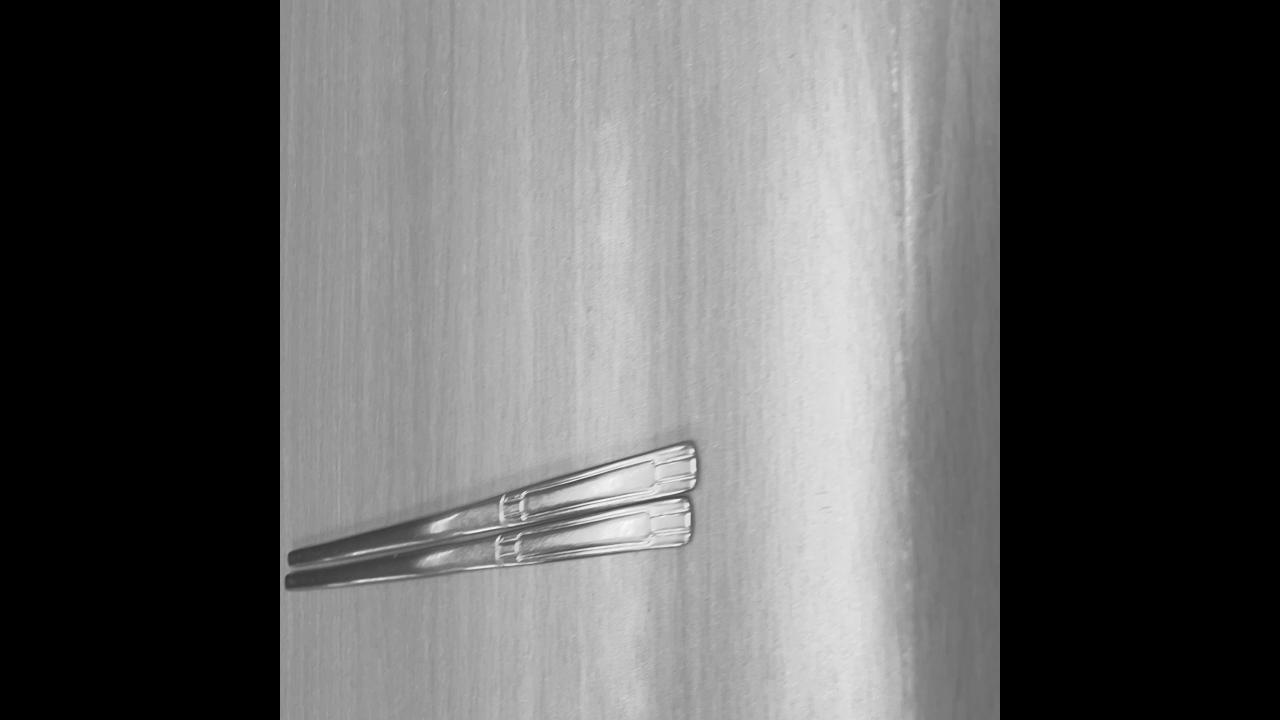chopstick: (286, 444, 695, 590)
